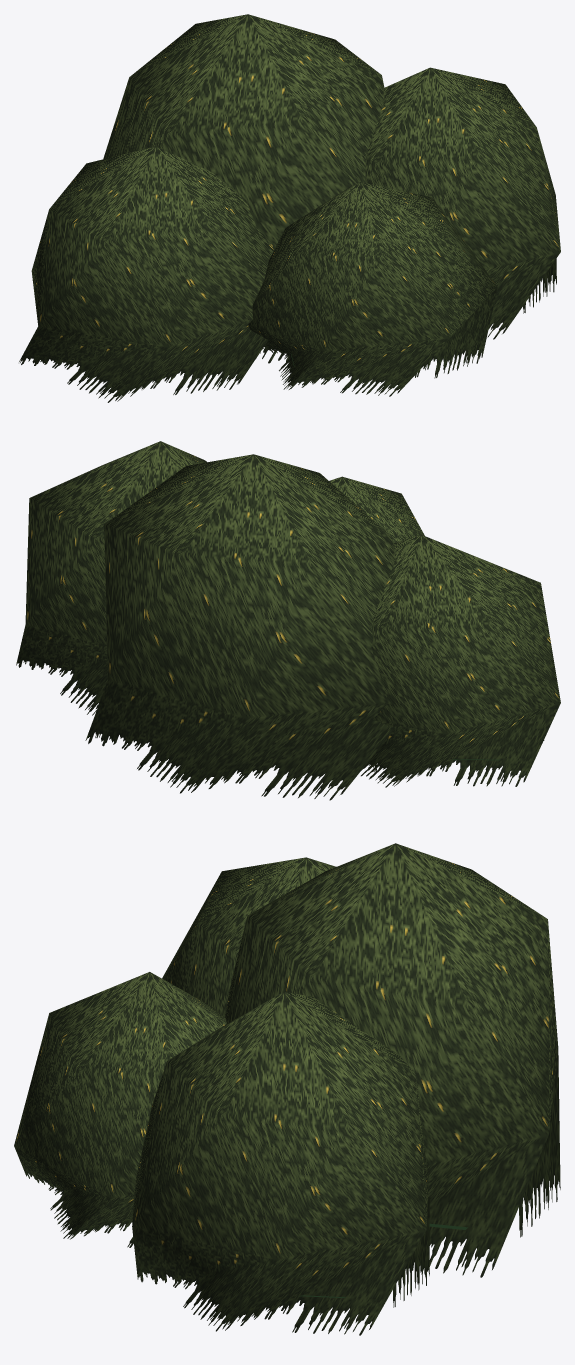
Rendered from Gorse.fbx.
The picture shows the model from 3 angles, top to bottom: view 1: azimuth 30°, elevation 25°; view 2: azimuth 150°, elevation 25°; view 3: azimuth 270°, elevation 25°; orthographic projection. The views are drawn at different scales.
Parts seen in each view (by area): view 1: Gorse; view 2: Gorse; view 3: Gorse.
Boxes of the visible parts, <box> form: Gorse: <box>19,14,560,402</box>; Gorse: <box>16,441,560,800</box>; Gorse: <box>14,843,560,1335</box>.
Bounding box in the file's own units: 1.65 × 0.9461 × 1.22.
